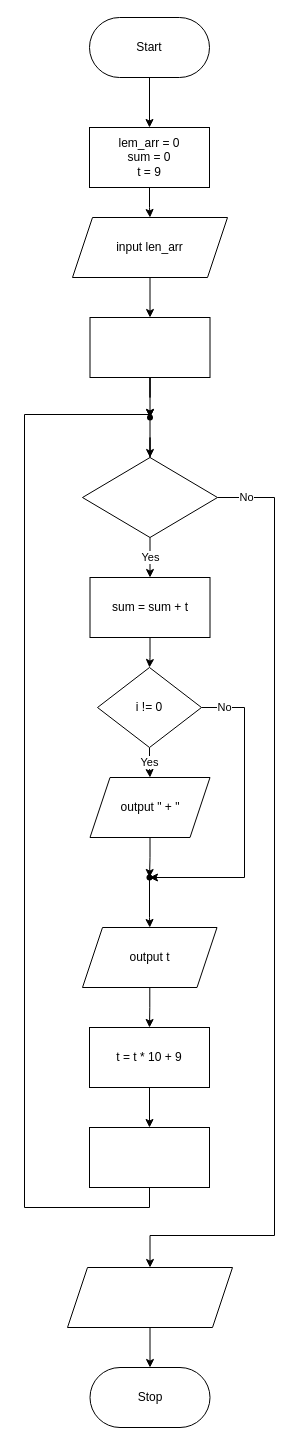
Image size: 300x1445. Some labels were removed from this diagram. Each missing label, with the centre of its shape:
i < len_arr ?: the point at 150,497
i = 0: the point at 149,347
i = i + 1: the point at 149,1157
output sum: the point at 149,1297
